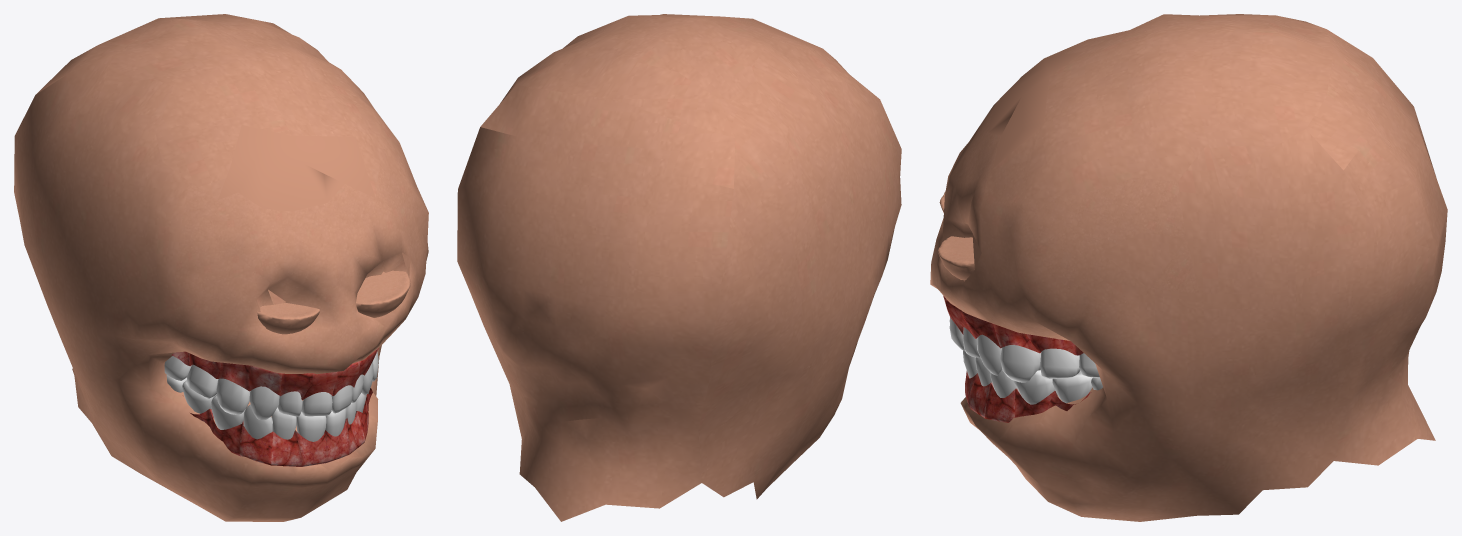
The model's file is locker_face.glb.
The picture shows the model from 3 angles, left to right: view 1: azimuth 30°, elevation 25°; view 2: azimuth 150°, elevation 25°; view 3: azimuth 270°, elevation 25°; orthographic projection. The views are drawn at different scales.
Parts seen in each view (by area): view 1: Cube.017, UpperJaw_Cube.005, LowerJaw_Cube.005, Sphere.006, Sphere.007; view 2: Cube.017; view 3: Cube.017, UpperJaw_Cube.005, LowerJaw_Cube.005, Sphere.006.
Part boxes in pixels (x1,y1,x2,y2): Cube.017: [14, 14, 428, 521]; UpperJaw_Cube.005: [164, 347, 379, 420]; LowerJaw_Cube.005: [166, 375, 372, 466]; Sphere.006: [356, 270, 410, 317]; Sphere.007: [257, 303, 319, 334]; Cube.017: [457, 14, 901, 521]; Cube.017: [930, 14, 1447, 521]; UpperJaw_Cube.005: [943, 296, 1099, 382]; LowerJaw_Cube.005: [963, 350, 1102, 422]; Sphere.006: [938, 236, 974, 280].
Bounding box in the file's own units: 0.2234 × 0.2997 × 0.2978.
Materials: 3 (2 with a texture image).
